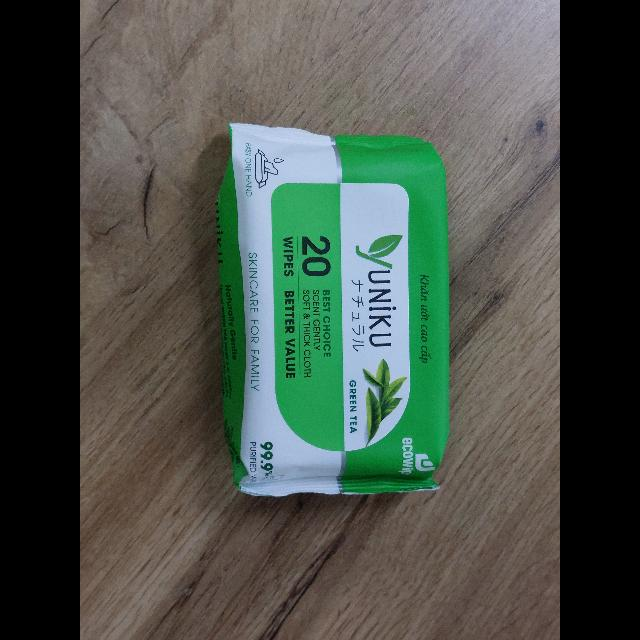khan_giay: (217, 123, 449, 496)
